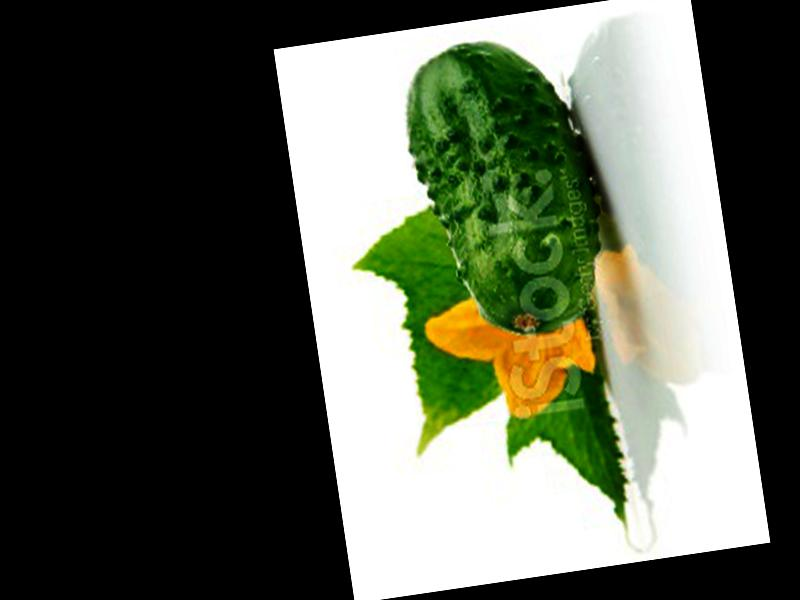Cucumber: (396, 28, 612, 344)
